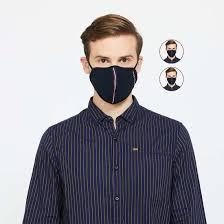with-mask: (76, 13, 148, 110)
